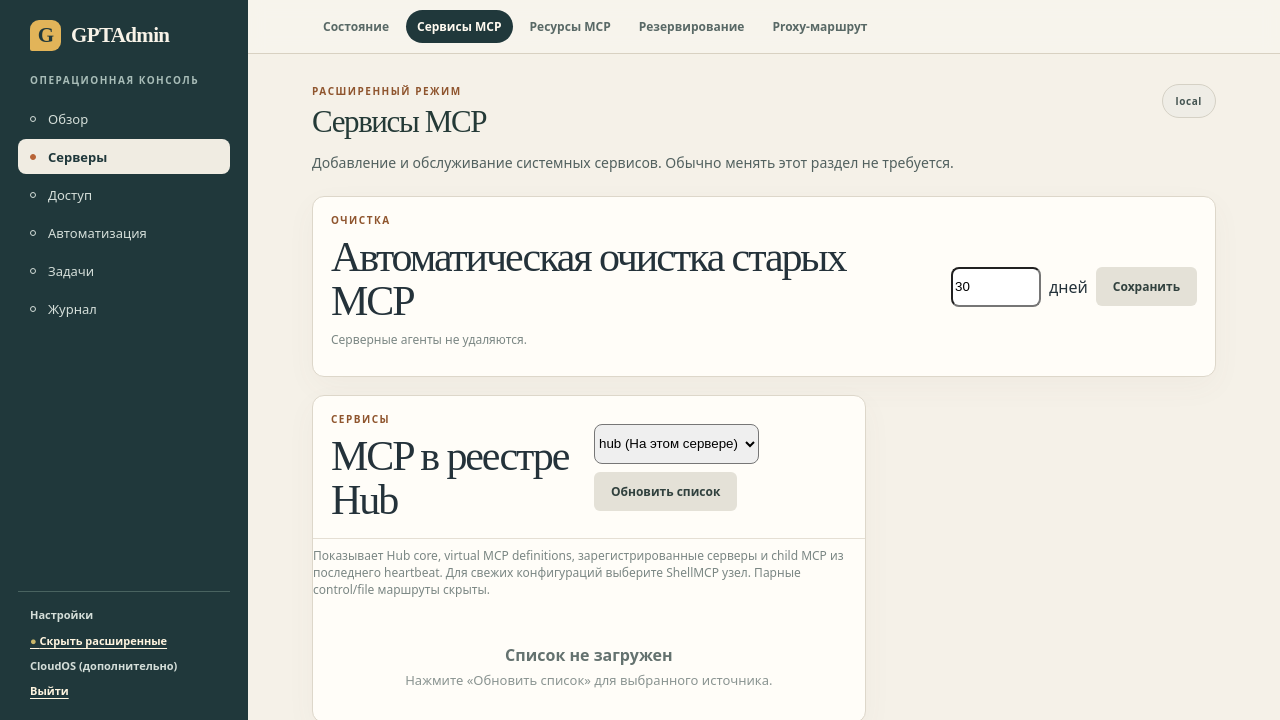
Scenario: lists the real Hub registry categories and refreshes a selected node's supervisor status
This screenshot has width=1280, height=720.
Check: the heading "Сервисы MCP" is shown, box [312, 104, 486, 139]
Click the button "Обновить список" at (666, 491), box [594, 472, 737, 511]
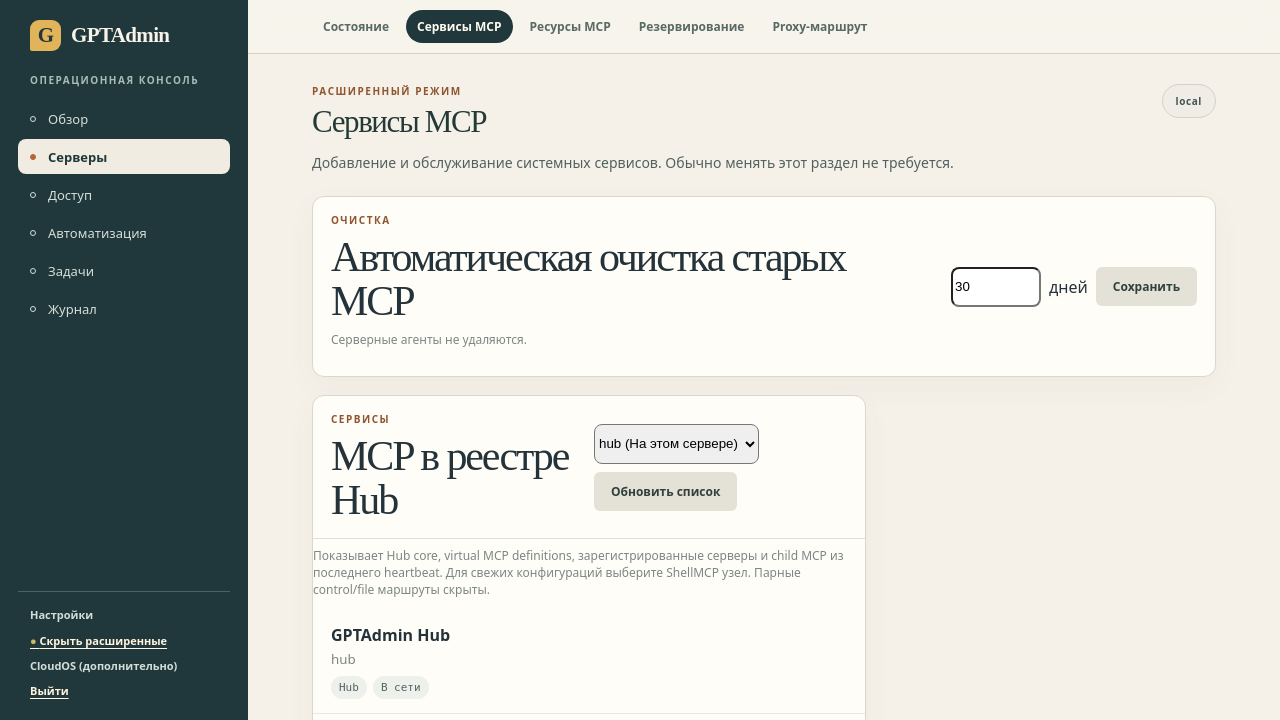
Check: the text "GPTAdmin Hub" is shown, box [331, 624, 450, 646]
Select "shell:node-a (Работает)" in the dropdown at (676, 444), box [594, 424, 759, 464]
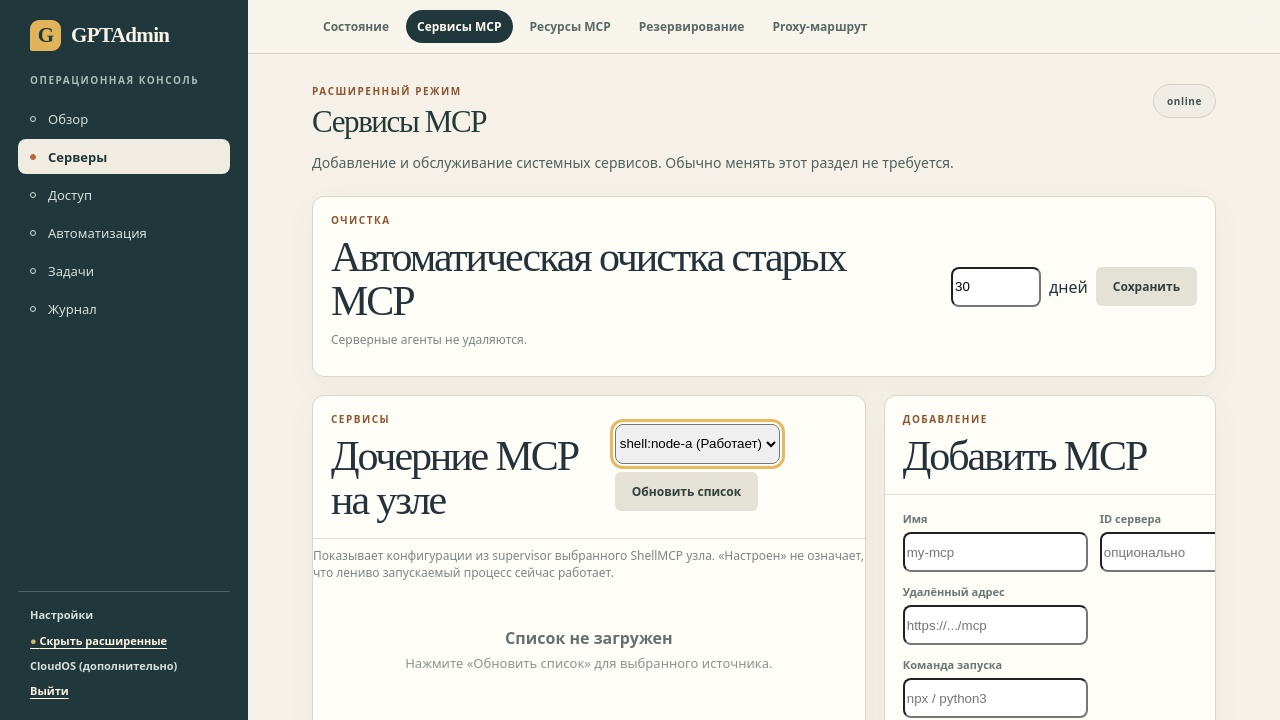
Click the button "Обновить список" at (686, 491), box [615, 472, 758, 511]
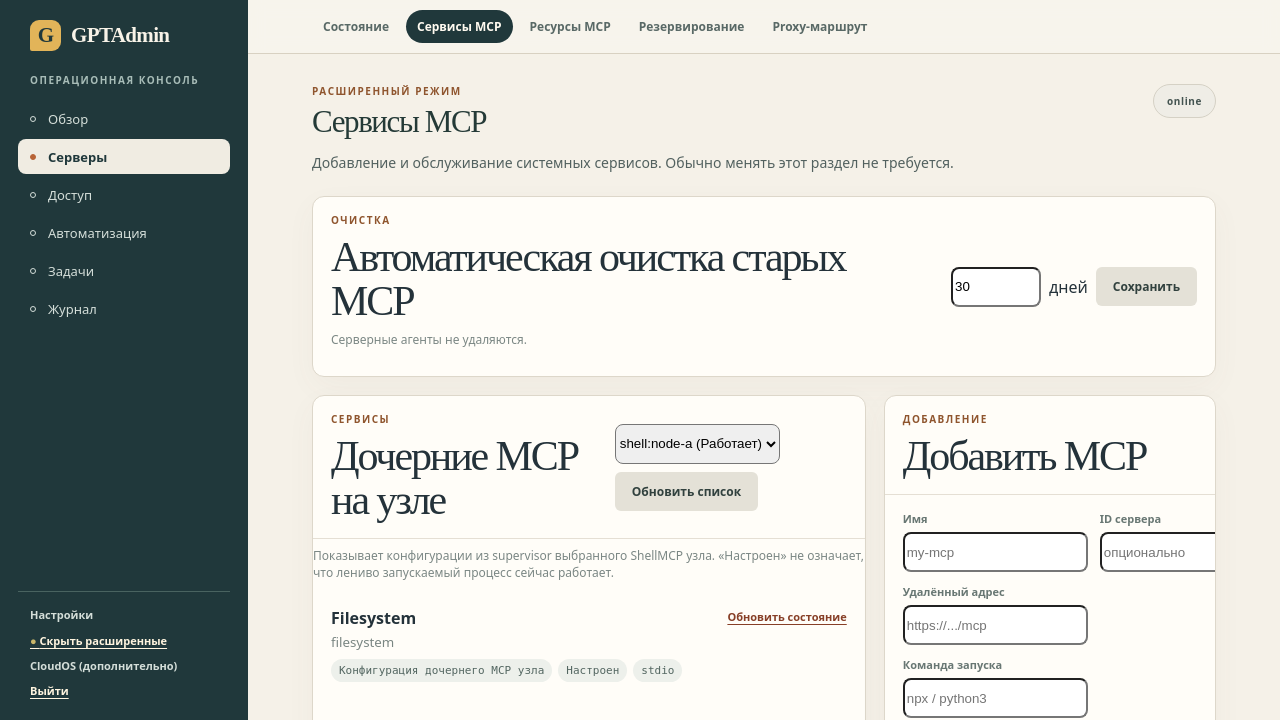
Check: the text "Конфигурация дочернего MCP узла" is shown, box [331, 660, 552, 682]
Check: the text "Настроен" is shown, box [558, 660, 627, 682]
Click the button "Обновить состояние" at (787, 617), box [727, 608, 847, 626]
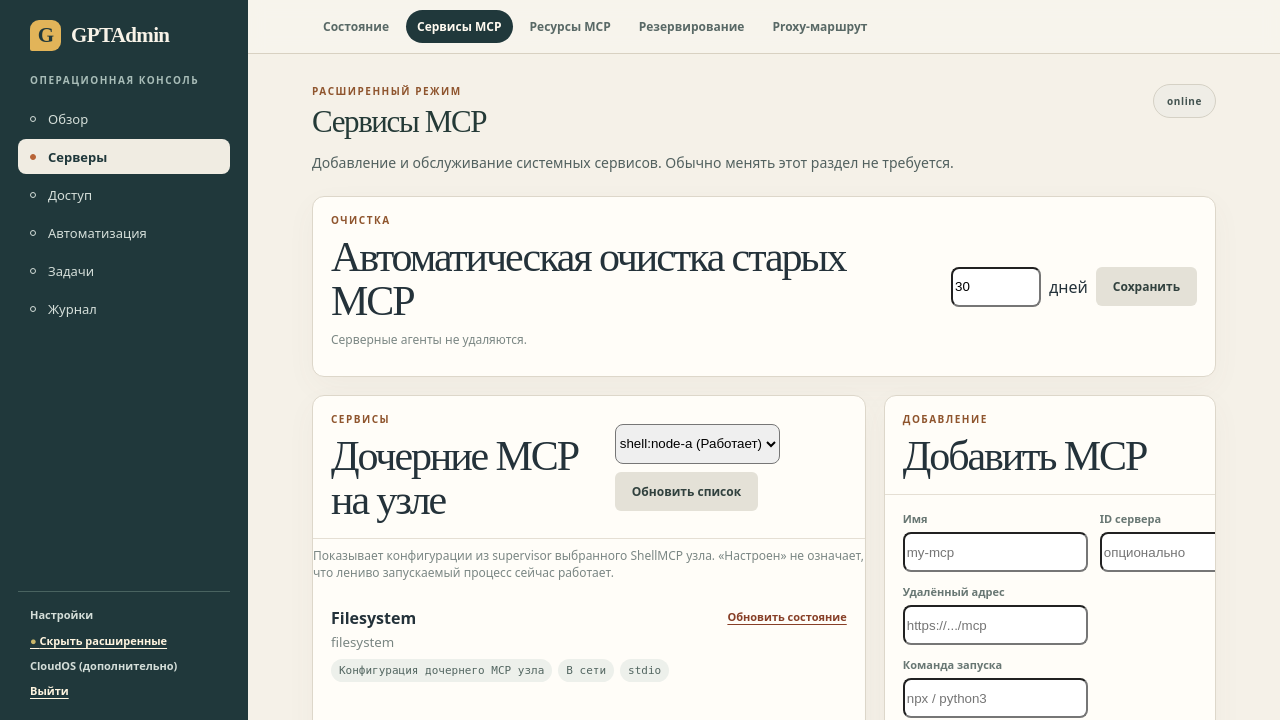
Check: the text "В сети" is shown, box [558, 660, 614, 682]
